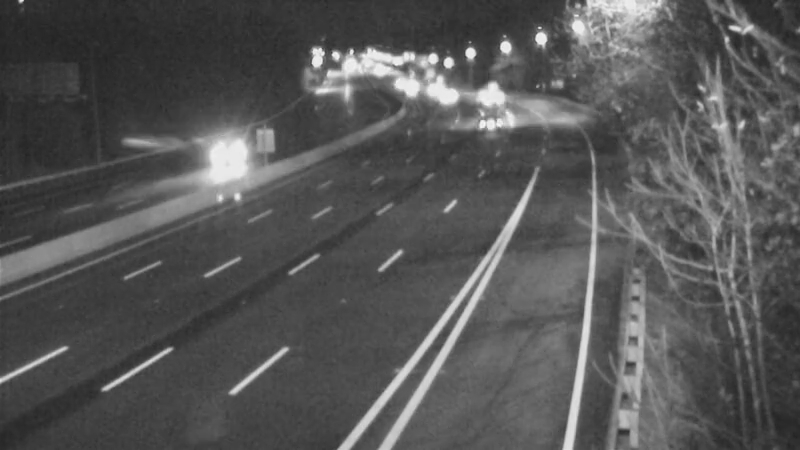vehicle: (185, 112, 265, 192), (372, 59, 422, 109), (408, 64, 458, 114), (469, 71, 519, 121), (419, 71, 469, 121), (461, 96, 511, 146)
